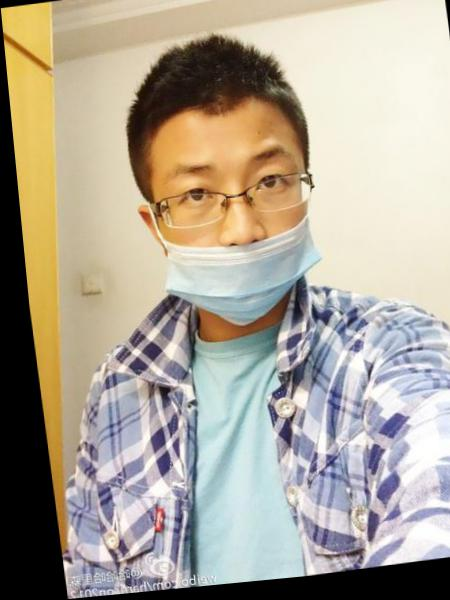WRONG: (135, 141, 331, 336)
